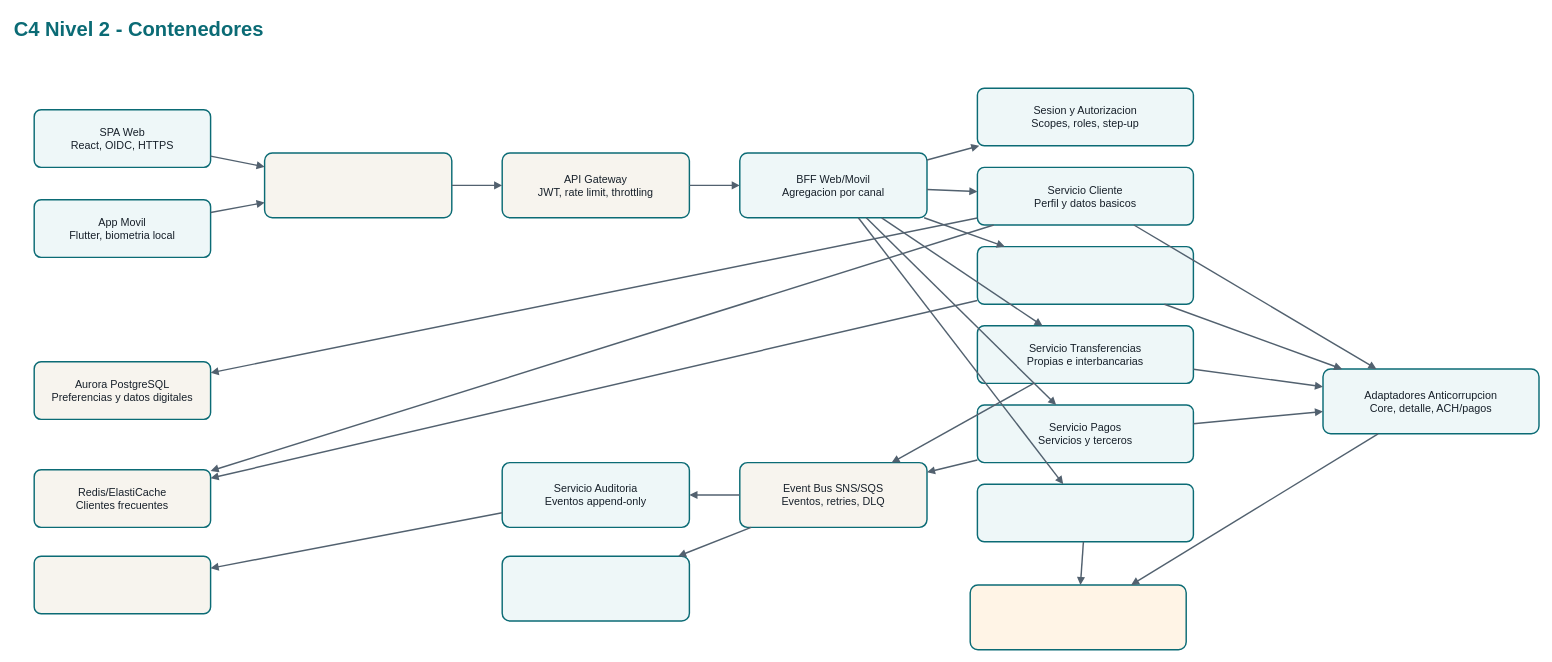
Some shapes in this 1552 by 662 pixel diagram are drawn without their labels. The shapes that lost their labels are listed below. From the top down, each one's box as (x1, y1, x2, y2) in pixels, then its label:
(264, 152, 452, 218): CloudFront + WAF TLS, DDoS, OWASP
(976, 246, 1194, 305): Servicio Movimientos Historico y filtros
(976, 483, 1194, 542): Servicio Onboarding/KYC Alta movil
(33, 555, 211, 614): Base Auditoria Ledger/S3 Object Lock
(501, 555, 690, 621): Servicio Notificaciones Email, SMS, push
(969, 584, 1187, 650): Core, sistema detalle, KYC, ACH/SPI y proveedores
